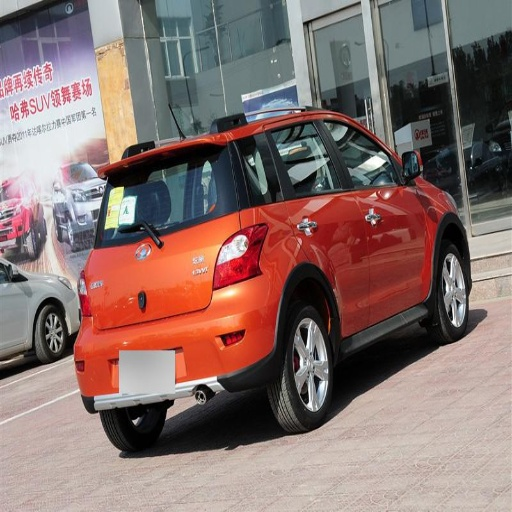back_bumper: (79, 275, 280, 407)
back_right_door: (260, 116, 370, 330)
trunk: (88, 220, 235, 328)
